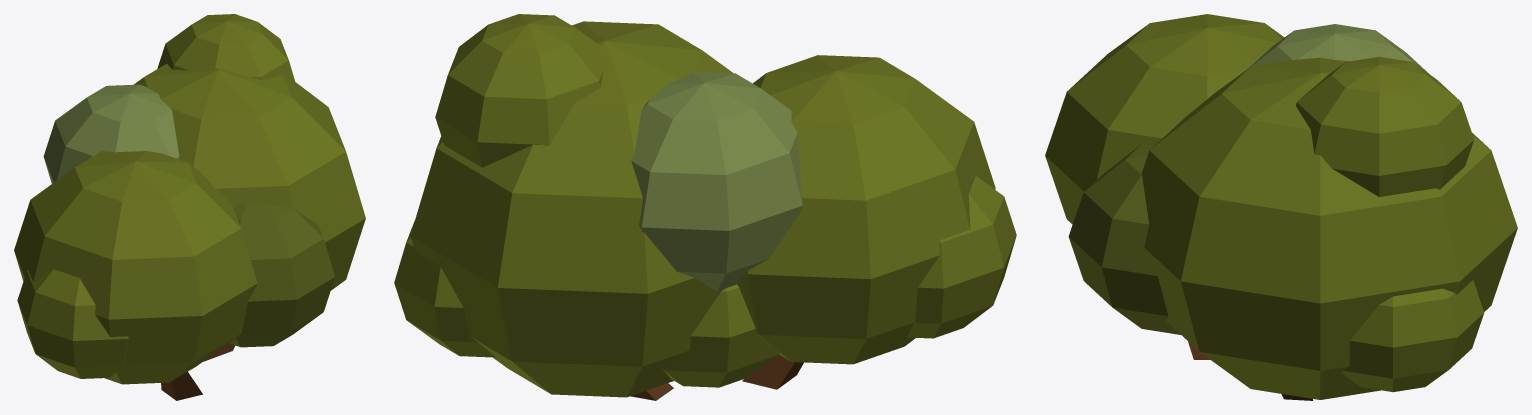
File: bush.glb
3 views of the same model, side by side, from view 1: azimuth 30°, elevation 25°; view 2: azimuth 150°, elevation 25°; view 3: azimuth 270°, elevation 25° (orthographic). The views are drawn at different scales.
Parts seen in each view (by area): view 1: Sphere, Sphere.004, Sphere.002, Sphere.003, Sphere.006, Sphere.005, Cube; view 2: Sphere.004, Sphere, Sphere.003, Sphere.005, Sphere.006, Sphere.007, Sphere.001, Cube; view 3: Sphere.004, Sphere, Sphere.005, Sphere.002, Sphere.001, Sphere.003.
Boxes of the visible parts, bbox=[...] form: Sphere: bbox=[14, 151, 257, 384]; Sphere.004: bbox=[134, 63, 365, 290]; Sphere.002: bbox=[229, 202, 334, 347]; Sphere.003: bbox=[43, 84, 179, 183]; Sphere.006: bbox=[17, 269, 128, 378]; Sphere.005: bbox=[157, 14, 295, 83]; Cube: bbox=[161, 371, 202, 400]; Sphere.004: bbox=[410, 21, 733, 397]; Sphere: bbox=[737, 55, 995, 364]; Sphere.003: bbox=[631, 71, 802, 291]; Sphere.005: bbox=[435, 14, 603, 167]; Sphere.006: bbox=[907, 176, 1016, 338]; Sphere.007: bbox=[663, 284, 779, 387]; Sphere.001: bbox=[394, 220, 494, 357]; Cube: bbox=[742, 354, 803, 389]; Sphere.004: bbox=[1141, 57, 1517, 399]; Sphere: bbox=[1045, 14, 1284, 224]; Sphere.005: bbox=[1295, 56, 1474, 196]; Sphere.002: bbox=[1068, 143, 1180, 334]; Sphere.001: bbox=[1342, 280, 1484, 392]; Sphere.003: bbox=[1248, 24, 1428, 73].
Size of the model in its own units: 6.13 by 4.57 by 5.52.
